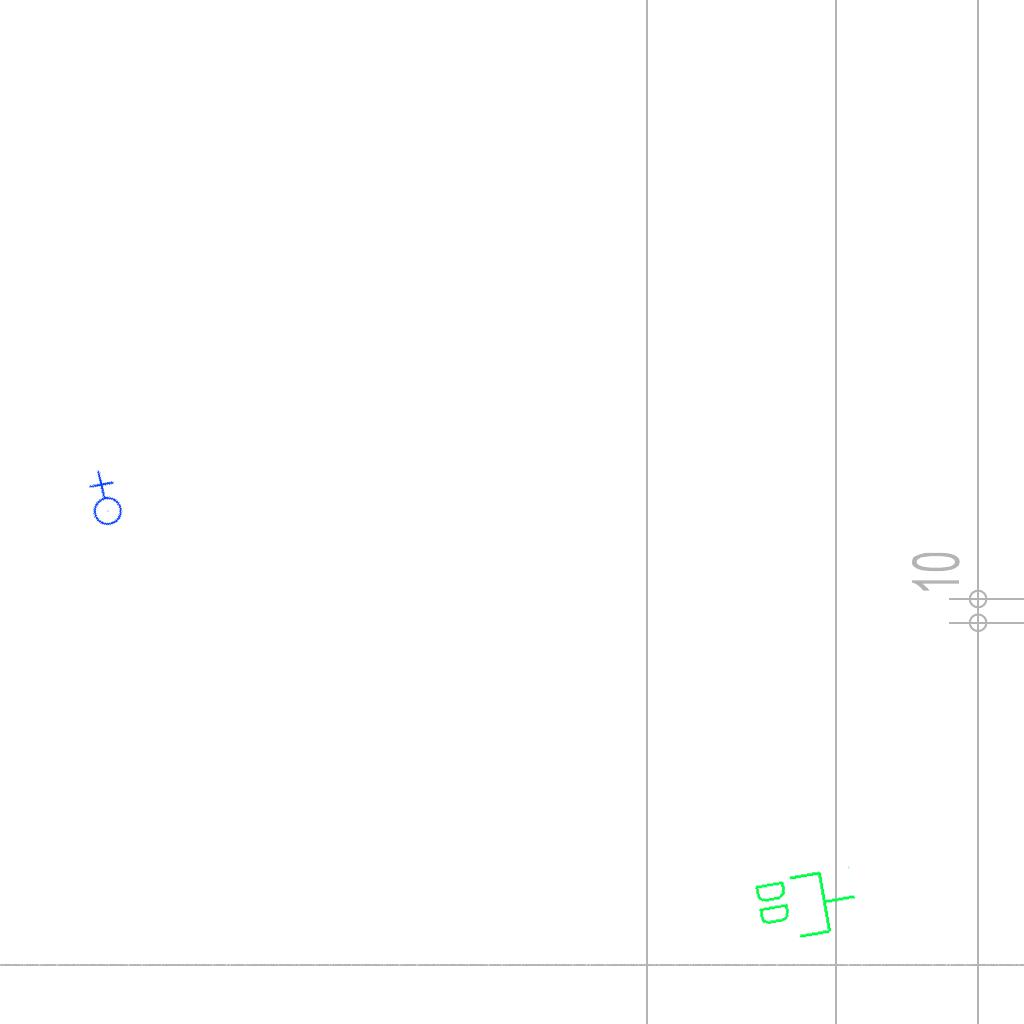Datenanschluss_zweifach: (749, 861, 864, 948)
Elektroanschluss_allgemein_230V_Geraeteanschlussdose_230V: (70, 468, 137, 535)
